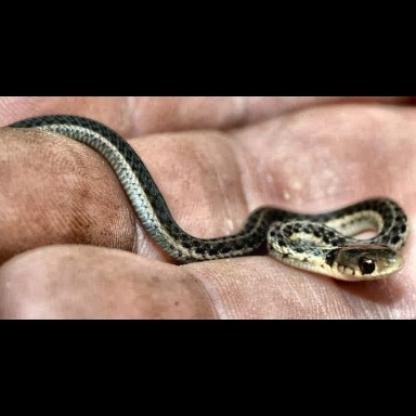Snake: (9, 107, 404, 284)
